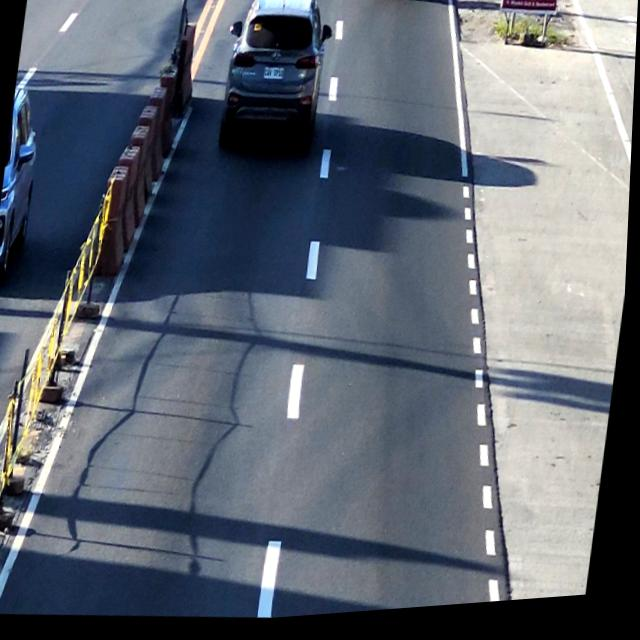Car: (222, 0, 330, 159)
License-Plate: (261, 68, 285, 85)
